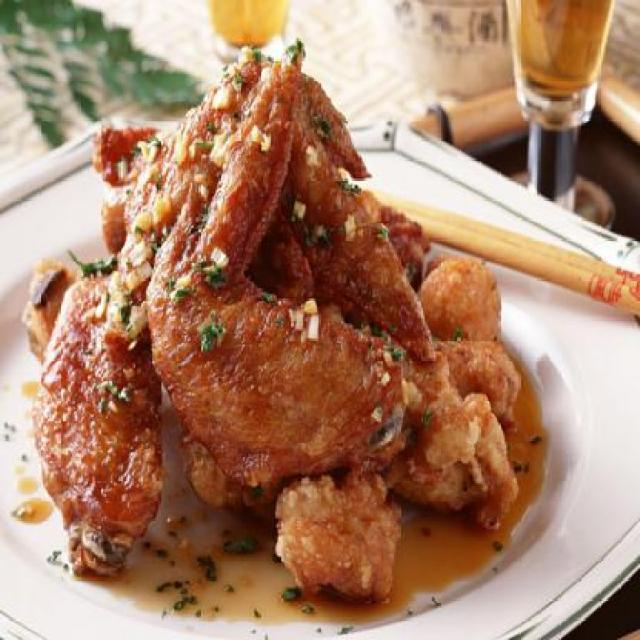Deep fried chicken wing: (39, 58, 522, 598)
